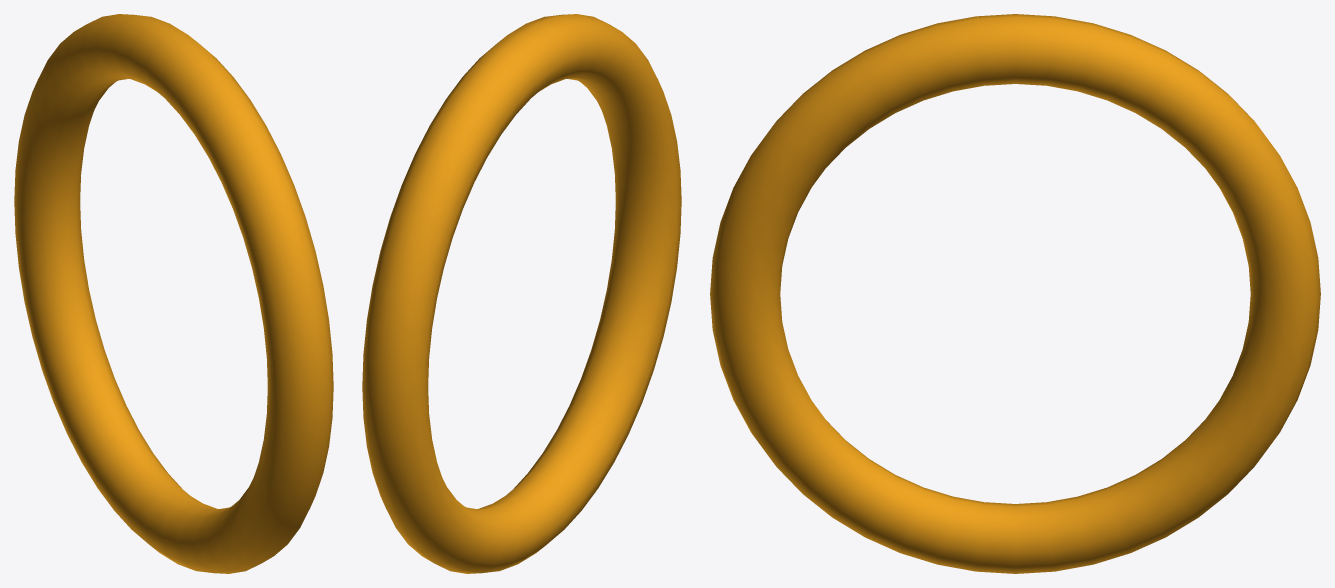
File: Ring.fbx
3 views of the same model, side by side, from view 1: azimuth 30°, elevation 25°; view 2: azimuth 150°, elevation 25°; view 3: azimuth 270°, elevation 25° (orthographic). The views are drawn at different scales.
Visible parts, largest first — view 1: Ring; view 2: Ring; view 3: Ring.
Boxes of the visible parts, x1,y1,x2,y2 form: Ring: (14,14,333,573); Ring: (362,14,681,573); Ring: (710,14,1320,573).
Bounding box in the file's own units: 23.12 × 201 × 201.
1 material, 1 textured.
